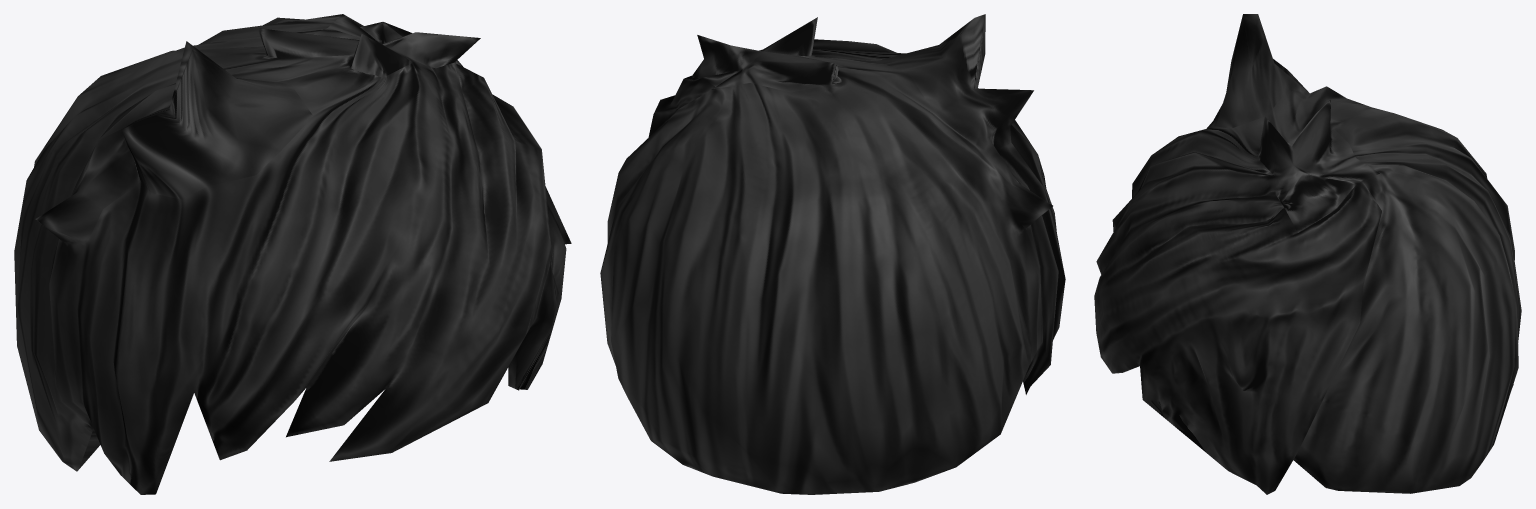
File: AF_M_hair_32.fbx
The picture shows the model from 3 angles, left to right: view 1: azimuth 30°, elevation 25°; view 2: azimuth 150°, elevation 25°; view 3: azimuth 270°, elevation 25°; orthographic projection. The views are drawn at different scales.
Parts seen in each view (by area): view 1: AF_M_hair_32; view 2: AF_M_hair_32; view 3: AF_M_hair_32.
Boxes of the visible parts, x1=… form: AF_M_hair_32: x1=14, y1=14, x2=571, y2=494; AF_M_hair_32: x1=600, y1=14, x2=1065, y2=494; AF_M_hair_32: x1=1094, y1=14, x2=1521, y2=494.
Size of the model in its own units: 777 by 718 by 725.
